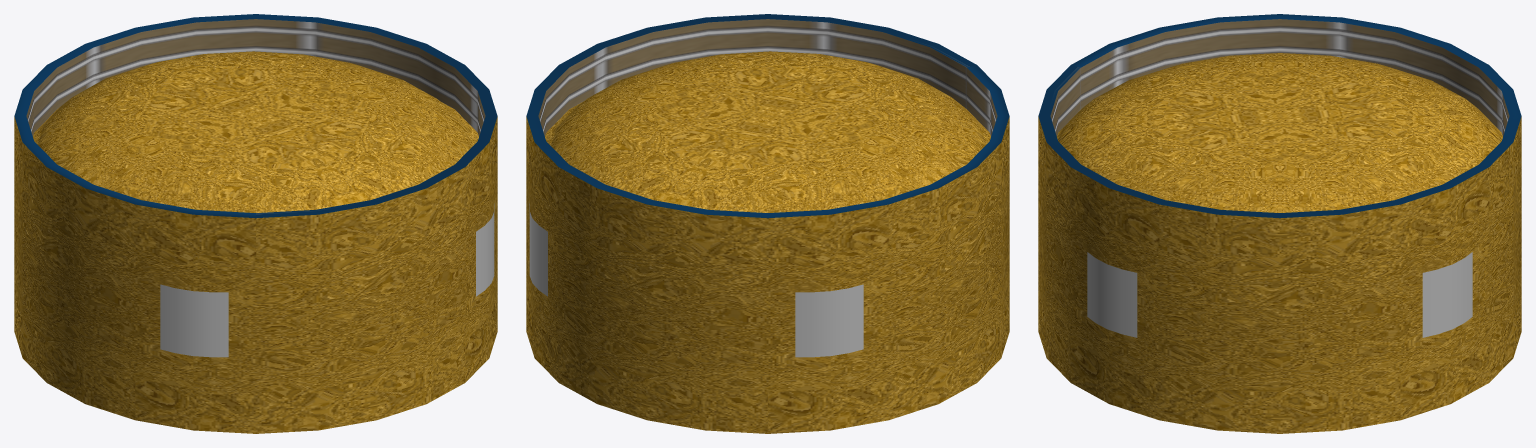
File: FLM-3600LG.FBX
3 views of the same model, side by side, from view 1: azimuth 30°, elevation 25°; view 2: azimuth 150°, elevation 25°; view 3: azimuth 270°, elevation 25° (orthographic).
Parts seen in each view (by area): view 1: TankBody, EndCap001, TankSleeve001, TankSleeve002, decalPanel002, decalPanel001; view 2: TankBody, EndCap001, TankSleeve001, TankSleeve002, decalPanel003, decalPanel004; view 3: TankBody, EndCap001, TankSleeve001, TankSleeve002, decalPanel001, decalPanel004.
Boxes of the visible parts, x1,y1,x2,y2 form: TankBody: (14, 157, 497, 392); EndCap001: (33, 51, 478, 212); TankSleeve001: (14, 14, 497, 257); TankSleeve002: (14, 291, 497, 433); decalPanel002: (160, 284, 228, 357); decalPanel001: (476, 203, 494, 296); TankBody: (526, 157, 1009, 392); EndCap001: (545, 51, 990, 212); TankSleeve001: (526, 14, 1009, 257); TankSleeve002: (526, 291, 1009, 433); decalPanel003: (795, 284, 863, 357); decalPanel004: (529, 203, 547, 296); TankBody: (1038, 157, 1521, 392); EndCap001: (1057, 53, 1502, 212); TankSleeve001: (1038, 14, 1521, 257); TankSleeve002: (1038, 291, 1521, 433); decalPanel001: (1087, 252, 1137, 337); decalPanel004: (1422, 252, 1472, 337).
Size of what is drawn, in the model's own units: 3.75 by 3.75 by 1.85.
